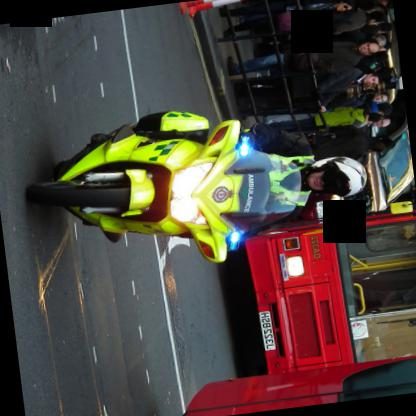handbag: (274, 8, 320, 31)
